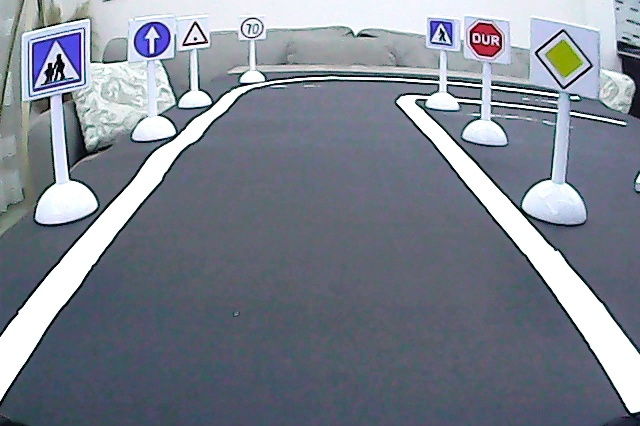green light: (180, 18, 210, 47)
pedestrian crossing: (428, 19, 456, 49)
school crossing: (25, 30, 87, 98)
speed limit 70: (239, 16, 265, 39)
stop sign: (466, 20, 506, 62)
